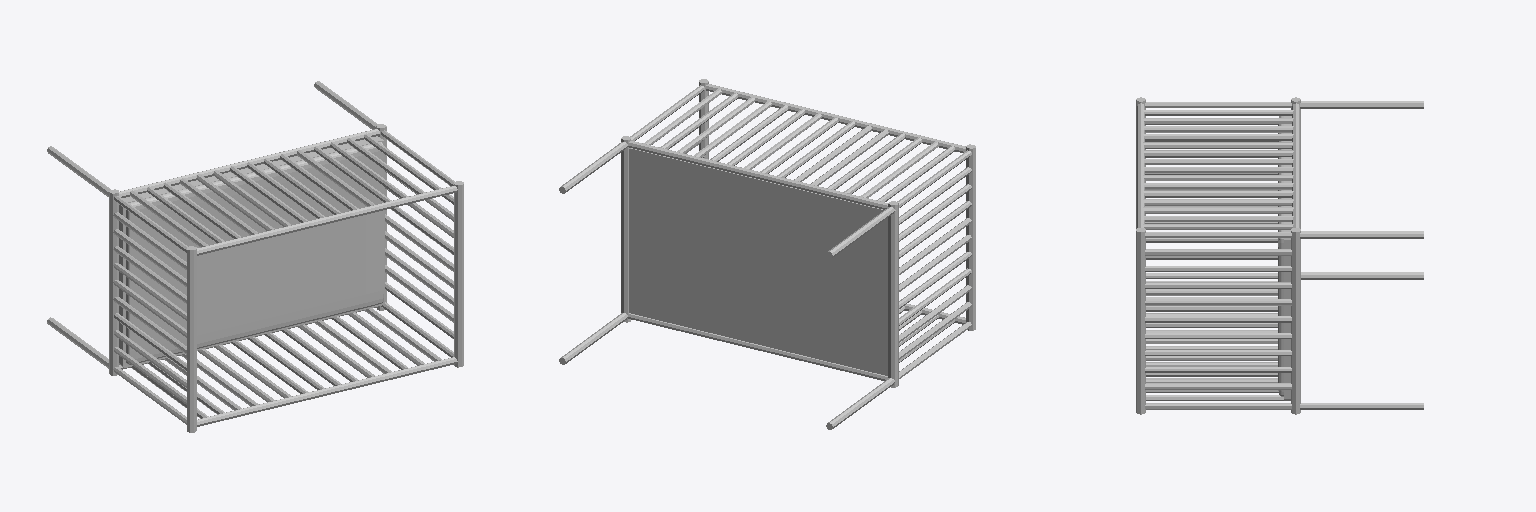
Rendered from 19851_Cage_Bed_v1.obj.
The picture shows the model from 3 angles: view 1: azimuth 30°, elevation 25°; view 2: azimuth 150°, elevation 25°; view 3: azimuth 270°, elevation 25°; orthographic projection.
Visible parts, largest first — view 1: 19851_Cage_Bed_01, 19851_Cage_Bed_02; view 2: 19851_Cage_Bed_01; view 3: 19851_Cage_Bed_01, 19851_Cage_Bed_02.
Boxes of the visible parts, x1=… form: 19851_Cage_Bed_01: x1=47, y1=81, x2=463, y2=432; 19851_Cage_Bed_02: x1=126, y1=142, x2=383, y2=364; 19851_Cage_Bed_01: x1=559, y1=79, x2=975, y2=429; 19851_Cage_Bed_01: x1=1136, y1=97, x2=1423, y2=414; 19851_Cage_Bed_02: x1=1278, y1=116, x2=1283, y2=396.
Size of the model in its own units: 24.14 by 15.22 by 21.81.